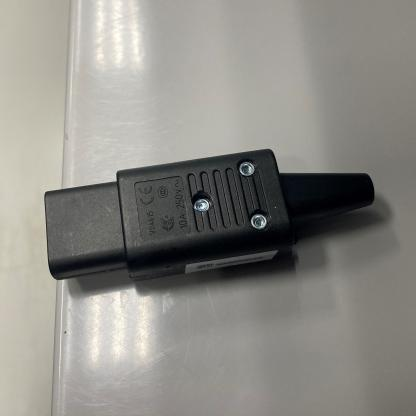SP0000006: (17, 122, 392, 323)
